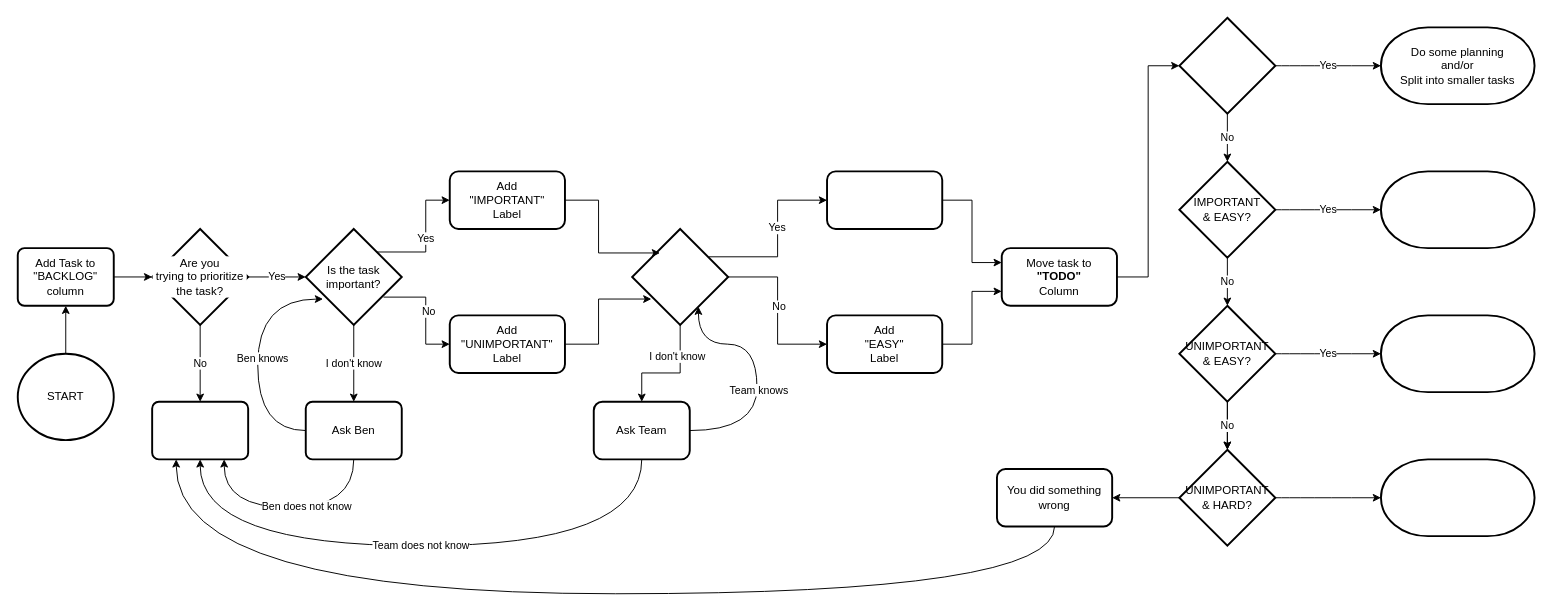
This 1551x611 diagram has some shape labels left out. The shapes that lost their labels are listed below. From the top down, each one's centre as x and y in pixels, then its label:
[1227,65]: IMPORTANT & HARD?
[884,199]: Add "HARD" Label
[1457,209]: Do the task
[680,276]: Is the task difficult?
[1457,353]: Do the task if you don't want to work on any other tasks
[200,430]: Leave in the backlog
[1457,497]: Reevaluate if this even needs to be here. Split into smaller, easier tasks.
